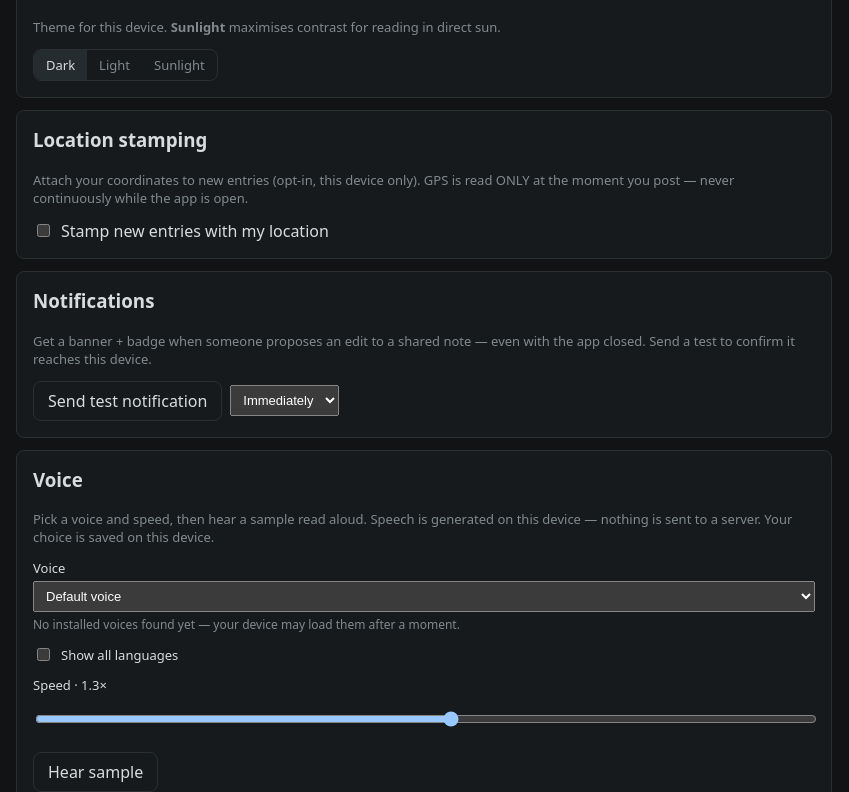
Scenario: SystemPage — push test notification › sends the test and reports devices reached (delay select feeds the body)
The width and height of the screenshot is (849, 792).
(page scrolled)
Select "after 30s" in the dropdown named "Delay before the test fires". click: (285, 401)
box: x1=230 y1=385 x2=339 y2=416
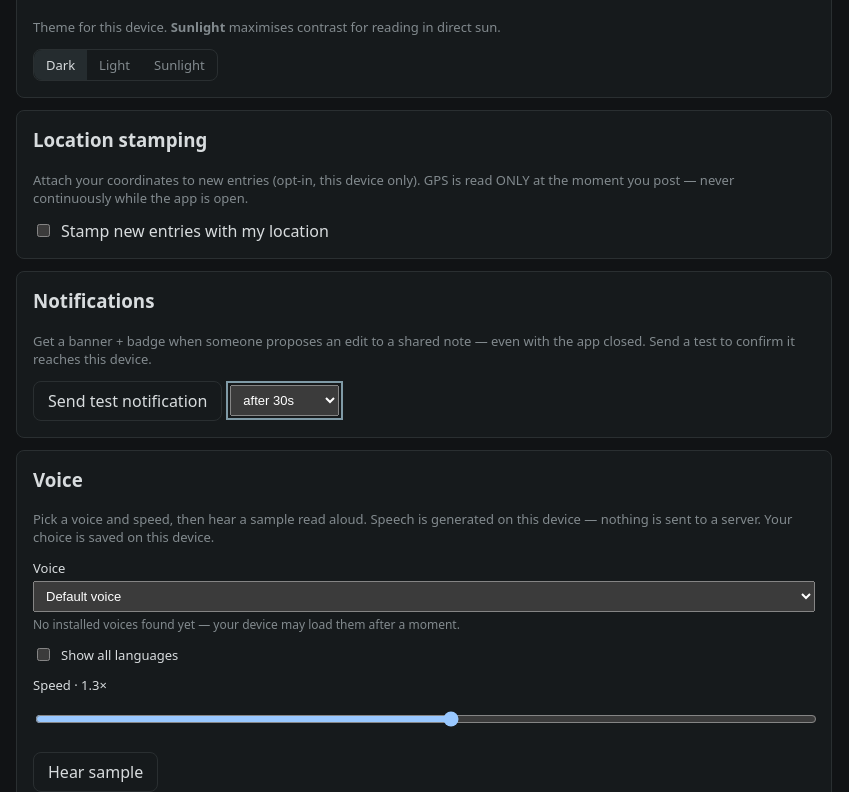
Click the button "Send test notification". click: (128, 401)
box: x1=33 y1=381 x2=222 y2=421
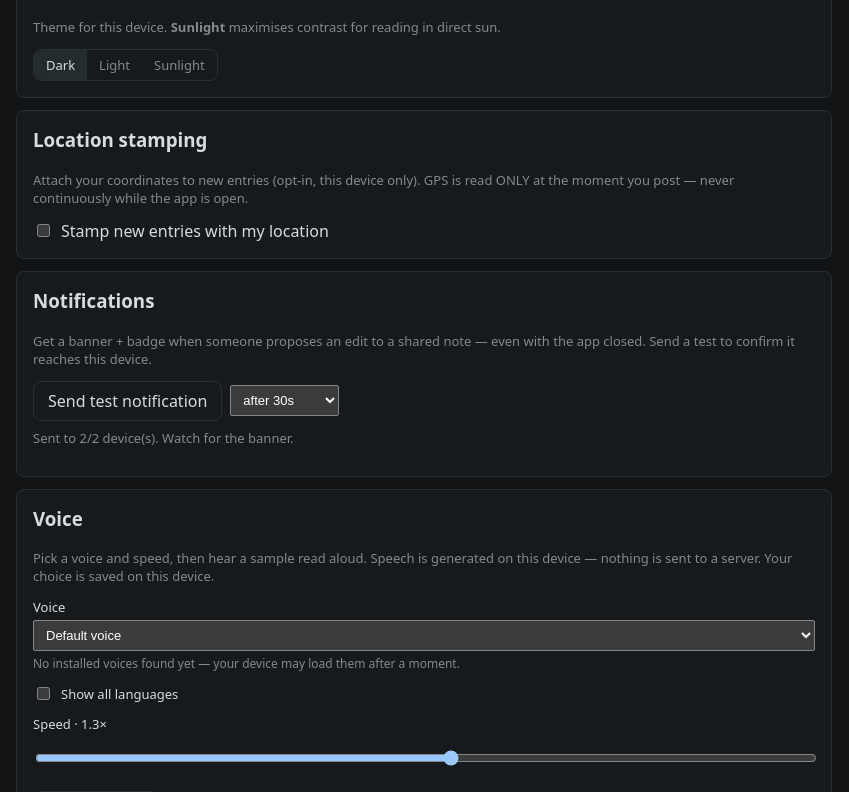
Check: the text "Sent to 2/2 device(s). Watch for the banner." is shown, box x1=33 y1=429 x2=294 y2=447
